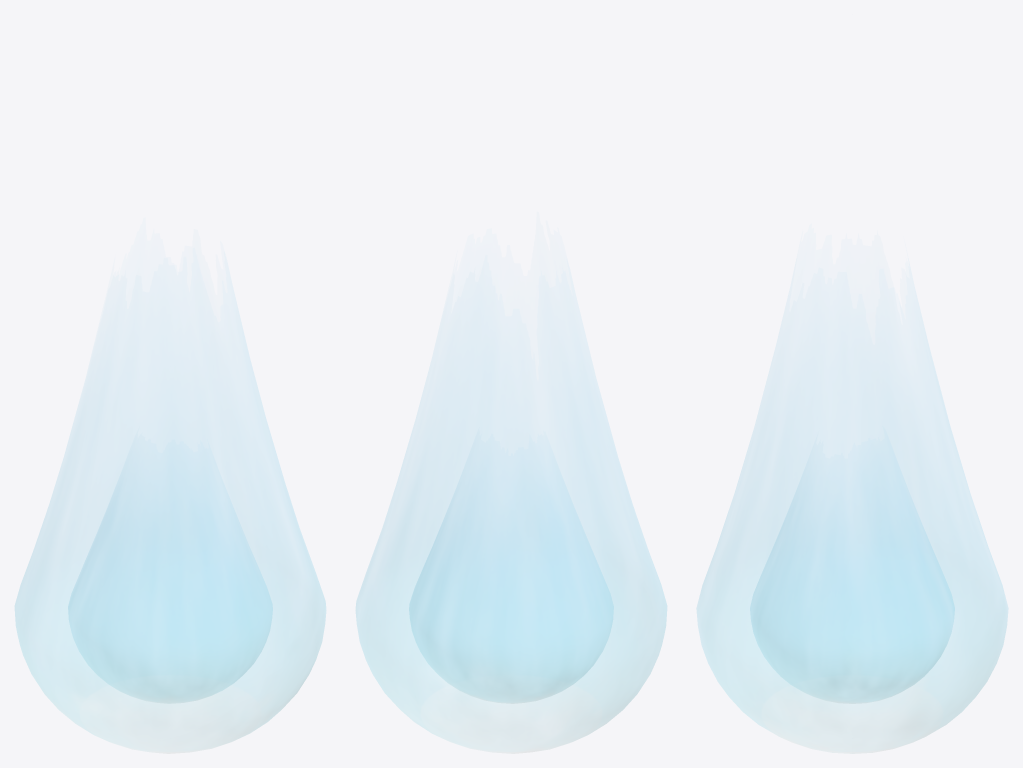
File: head_frost.glb
3 views of the same model, side by side, from view 1: azimuth 30°, elevation 25°; view 2: azimuth 150°, elevation 25°; view 3: azimuth 270°, elevation 25° (orthographic).
Visible parts, largest first — view 1: head; view 2: head; view 3: head.
Boxes of the visible parts, bbox=[...] form: head: bbox=[15, 401, 325, 753]; head: bbox=[356, 404, 666, 753]; head: bbox=[697, 400, 1007, 753].
Size of the model in its own units: 3.5 by 8.96 by 3.5.
Materials: 2 (2 with a texture image).
